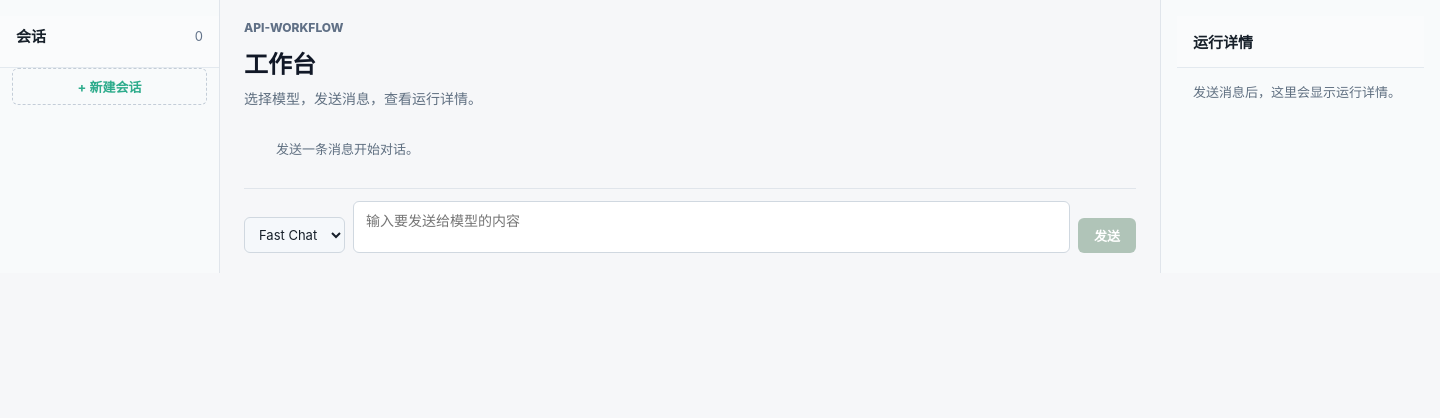
WorkbenchPage › sends a message and displays the response with run details
The image size is (1440, 418).
Type "Reply with one short sentence." into the text box with placeholder "输入要发送给模型的内容" at (712, 228), box [353, 202, 1070, 254]
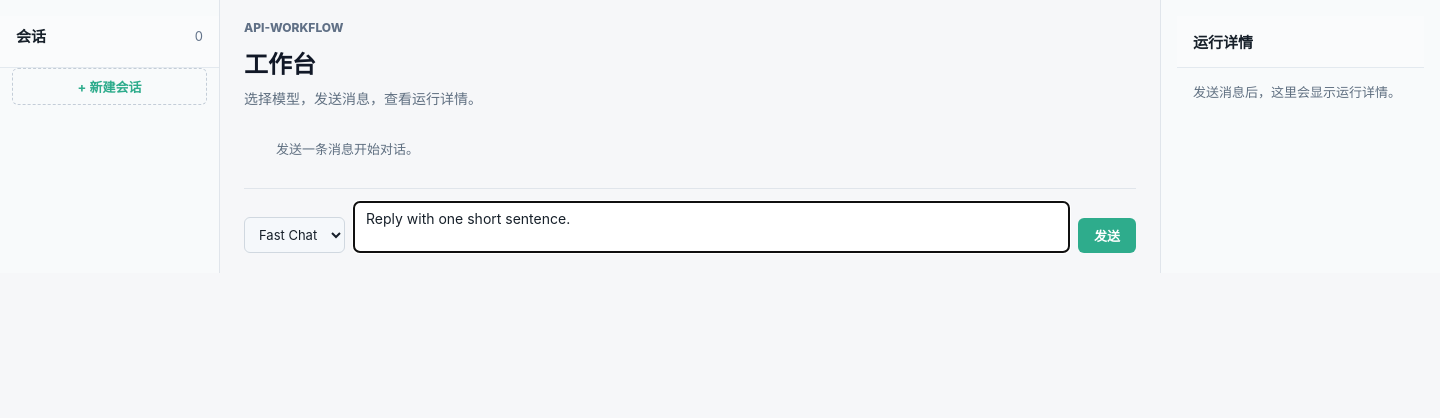
Click the button "发送" at (1107, 236), box [1078, 218, 1136, 254]
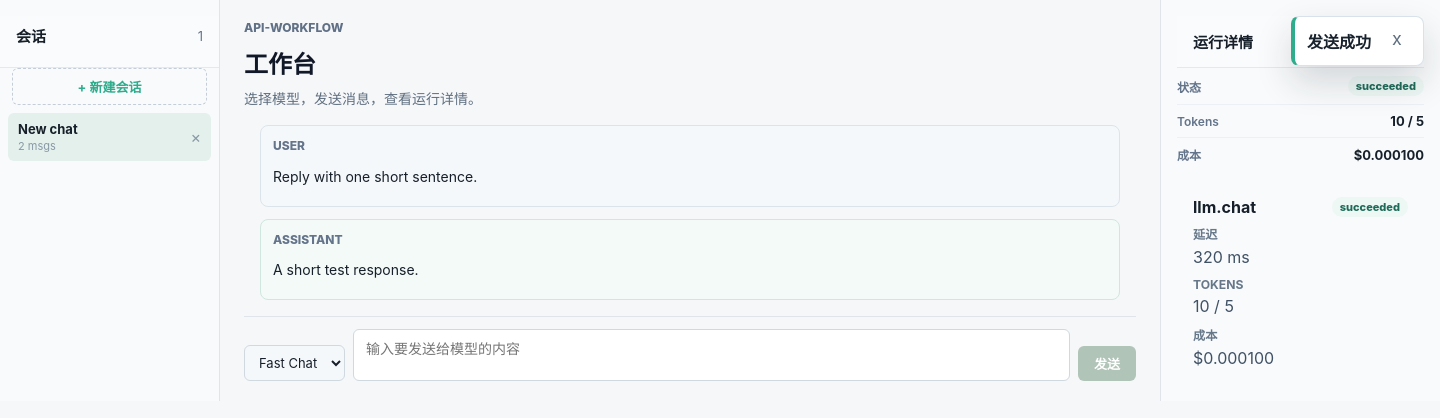
Expected: the text "A short test response." is shown, [273, 261, 419, 278]
Expected: the text "发送成功" is shown, [1307, 29, 1371, 53]
